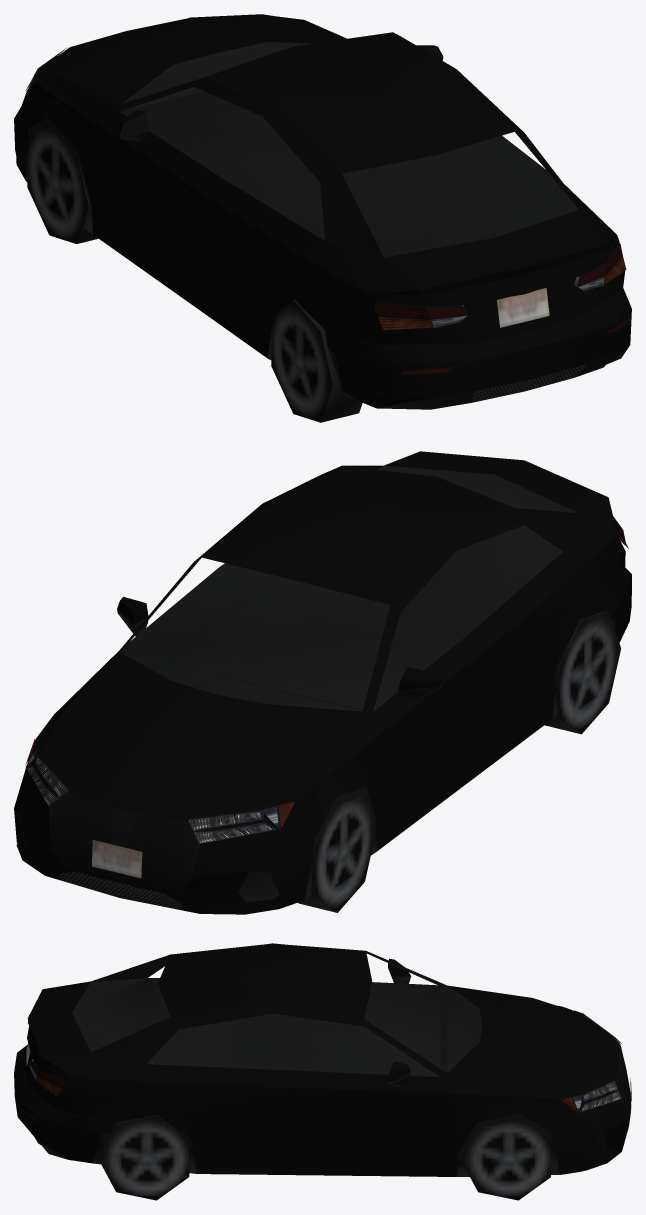
The model's file is tailgater2.glb.
3 views of the same model, one above another, from view 1: azimuth 30°, elevation 25°; view 2: azimuth 150°, elevation 25°; view 3: azimuth 270°, elevation 25° (orthographic). The views are drawn at different scales.
Parts seen in each view (by area): view 1: chassis; view 2: chassis; view 3: chassis.
Boxes of the visible parts, x1,y1,x2,y2 form: chassis: [14, 14, 631, 422]; chassis: [14, 451, 631, 914]; chassis: [14, 943, 631, 1200].
Bounding box in the file's own units: 2 × 1.41 × 4.46.
Materials: 5 (5 with a texture image).
